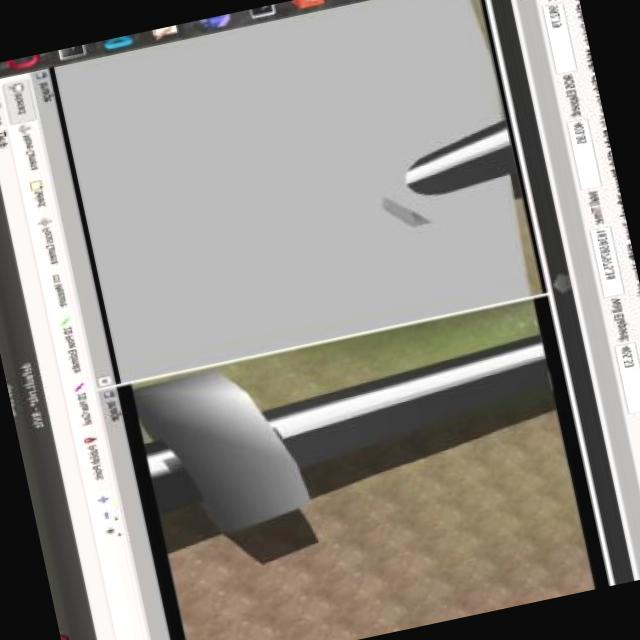gas: (270, 328, 558, 449), (144, 410, 286, 492), (402, 116, 522, 200)
